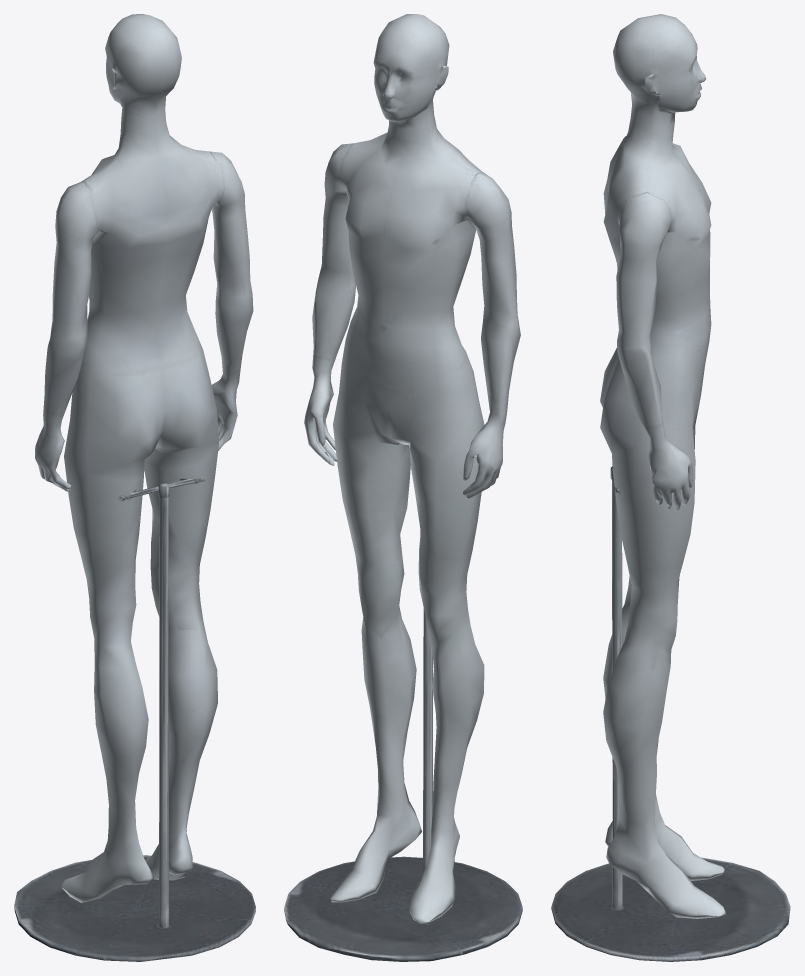
The model's file is mall-mannequin-full.glb.
The picture shows the model from 3 angles, left to right: view 1: azimuth 30°, elevation 25°; view 2: azimuth 150°, elevation 25°; view 3: azimuth 270°, elevation 25°; orthographic projection.
Visible parts, largest first — view 1: mannequin-full; view 2: mannequin-full; view 3: mannequin-full.
Boxes of the visible parts, bbox=[...] form: mannequin-full: bbox=[14, 14, 255, 961]; mannequin-full: bbox=[284, 14, 522, 961]; mannequin-full: bbox=[551, 14, 790, 961].
Bounding box in the file's own units: 0.4492 × 1.85 × 0.4473.
Materials: 1 (1 with a texture image).
